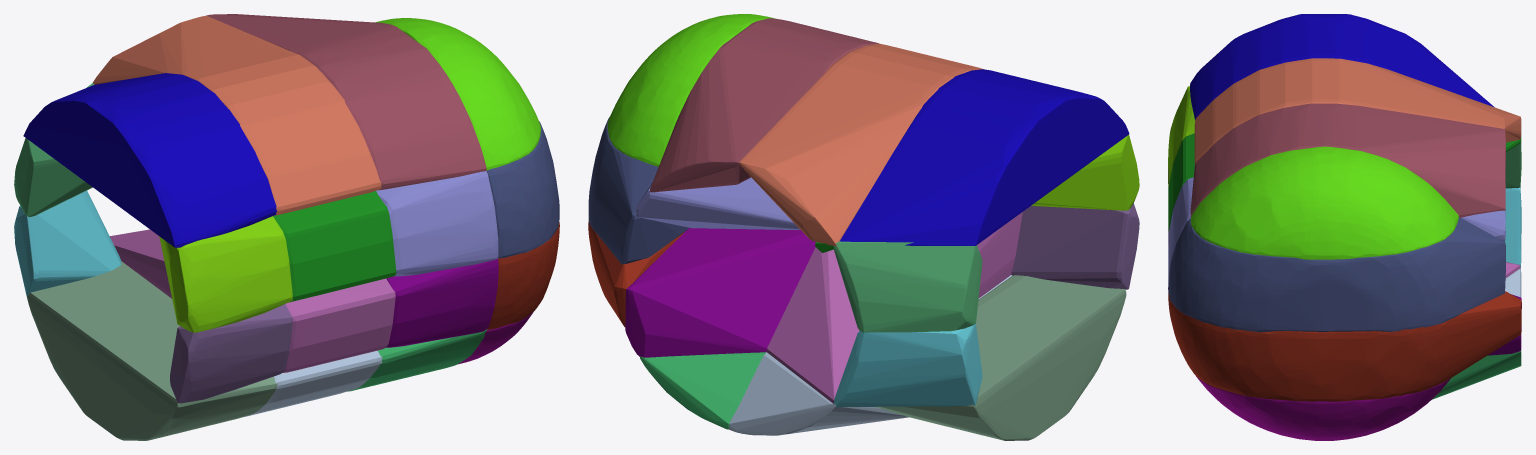
File: hip-yaw-housing_split.obj
The picture shows the model from 3 angles, left to right: view 1: azimuth 30°, elevation 25°; view 2: azimuth 150°, elevation 25°; view 3: azimuth 270°, elevation 25°; orthographic projection. The views are drawn at different scales.
Parts seen in each view (by area): view 1: geometry_5, geometry_9, geometry_0, geometry_13, geometry_4, geometry_12, geometry_7, geometry_8, geometry_17, geometry_1, geometry_2, geometry_11 (+6 smaller); view 2: geometry_5, geometry_9, geometry_0, geometry_11, geometry_13, geometry_3, geometry_7, geometry_2, geometry_17, geometry_1, geometry_16, geometry_6 (+4 smaller); view 3: geometry_16, geometry_17, geometry_15, geometry_13, geometry_9, geometry_5, geometry_14, geometry_12, geometry_10, geometry_8, geometry_2, geometry_4 (+3 smaller).
Part boxes in pixels (x1,y1,x2,y2): geometry_5: [23, 73, 276, 247]; geometry_9: [93, 15, 381, 215]; geometry_0: [27, 261, 277, 440]; geometry_13: [206, 14, 486, 190]; geometry_4: [159, 216, 292, 332]; geometry_12: [376, 171, 498, 276]; geometry_7: [110, 229, 395, 372]; geometry_8: [273, 191, 396, 302]; geometry_17: [375, 18, 540, 170]; geometry_1: [170, 304, 292, 403]; geometry_2: [14, 190, 121, 296]; geometry_11: [386, 258, 498, 347]; geometry_5: [840, 69, 1129, 245]; geometry_9: [739, 43, 984, 246]; geometry_0: [876, 275, 1126, 440]; geometry_11: [625, 228, 815, 357]; geometry_13: [650, 18, 878, 192]; geometry_3: [833, 241, 982, 332]; geometry_7: [766, 212, 1022, 403]; geometry_2: [834, 324, 982, 407]; geometry_17: [607, 14, 776, 166]; geometry_1: [1011, 203, 1139, 289]; geometry_16: [588, 117, 689, 264]; geometry_6: [729, 275, 1012, 435]; geometry_16: [1168, 217, 1505, 332]; geometry_17: [1190, 146, 1458, 259]; geometry_15: [1168, 291, 1521, 401]; geometry_13: [1190, 103, 1505, 217]; geometry_9: [1194, 58, 1521, 164]; geometry_5: [1190, 14, 1494, 120]; geometry_14: [1196, 376, 1450, 440]; geometry_12: [1168, 177, 1505, 282]; geometry_10: [1432, 351, 1521, 399]; geometry_8: [1168, 133, 1521, 231]; geometry_2: [1505, 187, 1521, 267]; geometry_4: [1168, 86, 1195, 186].
Size of the model in its own units: 0.1028 by 0.0754 by 0.0854.
